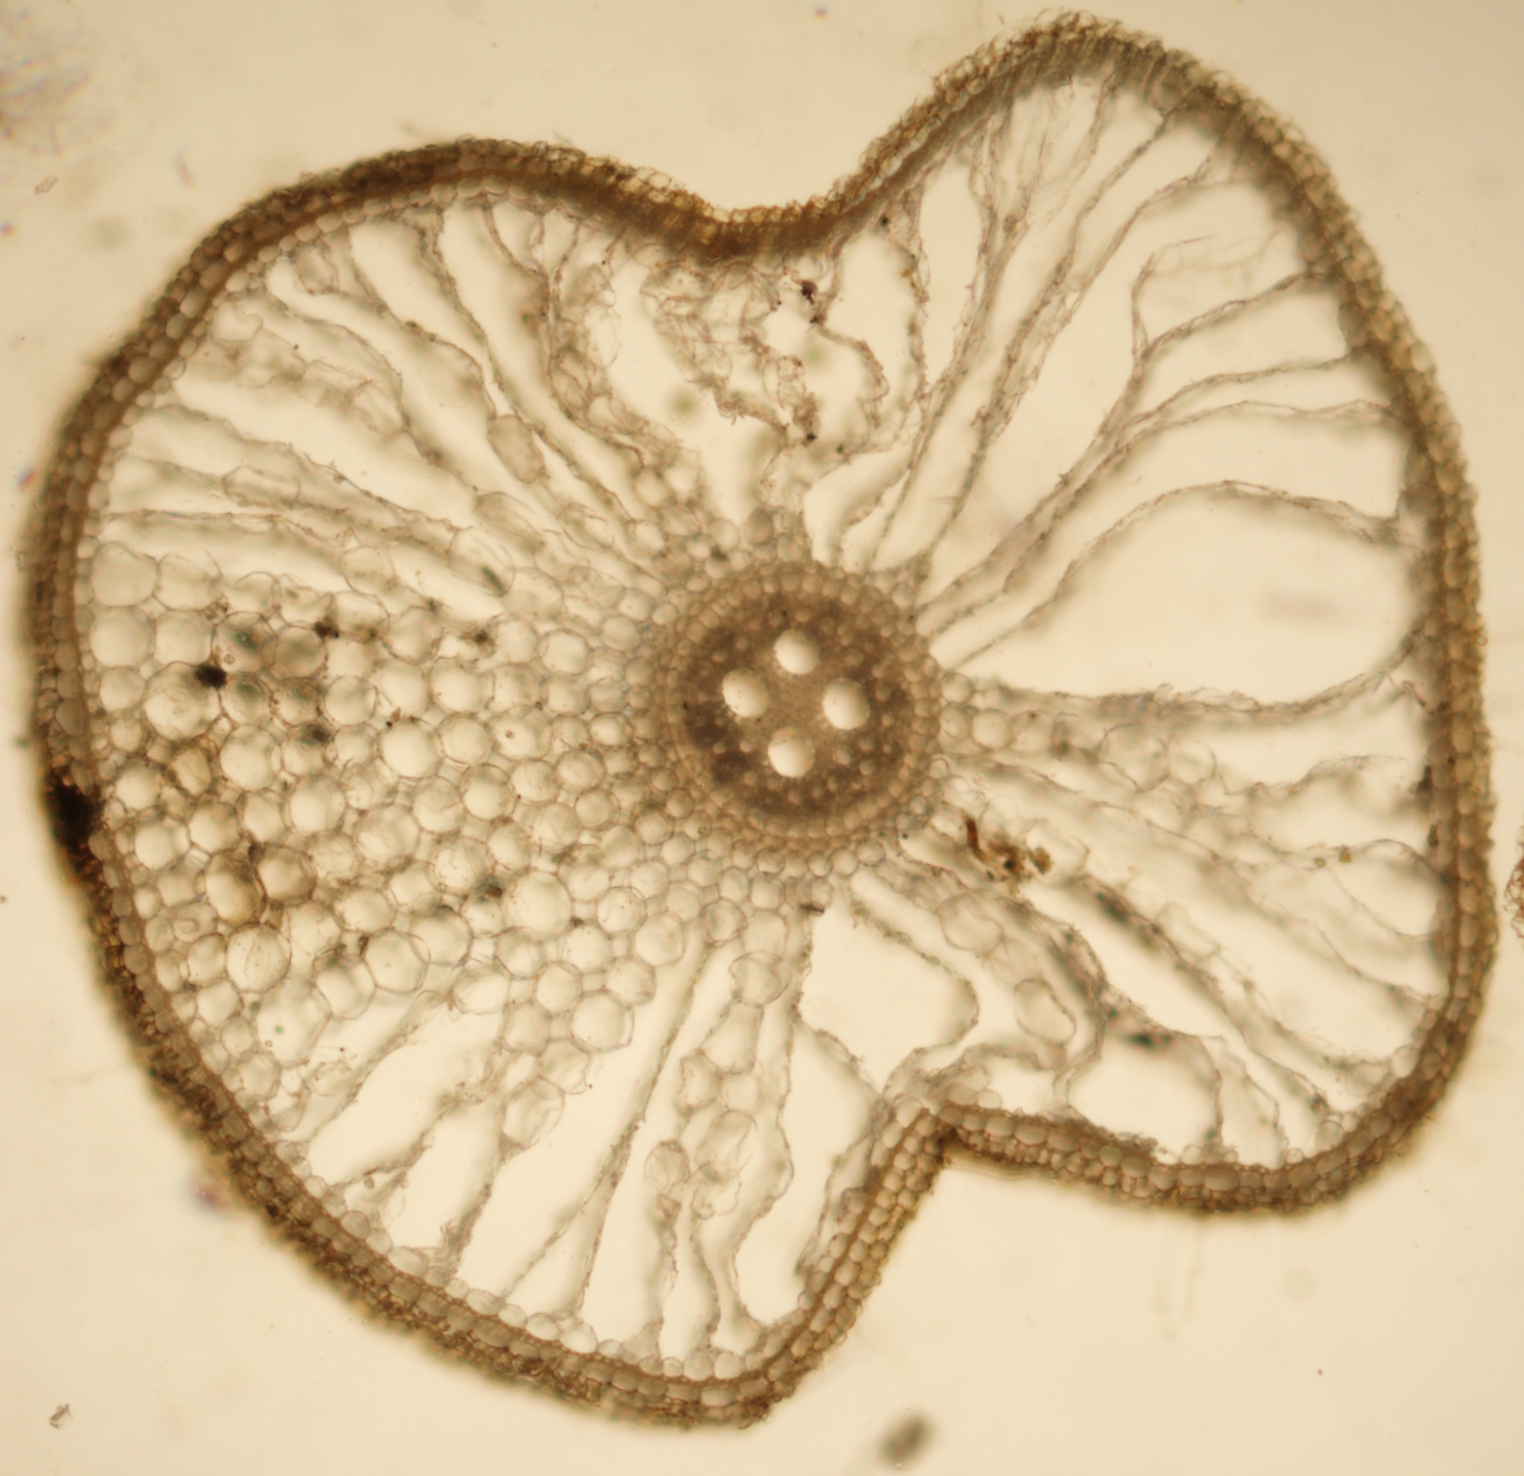lm: (822, 677, 871, 731), (767, 726, 816, 777), (723, 667, 769, 716), (774, 628, 822, 673)
